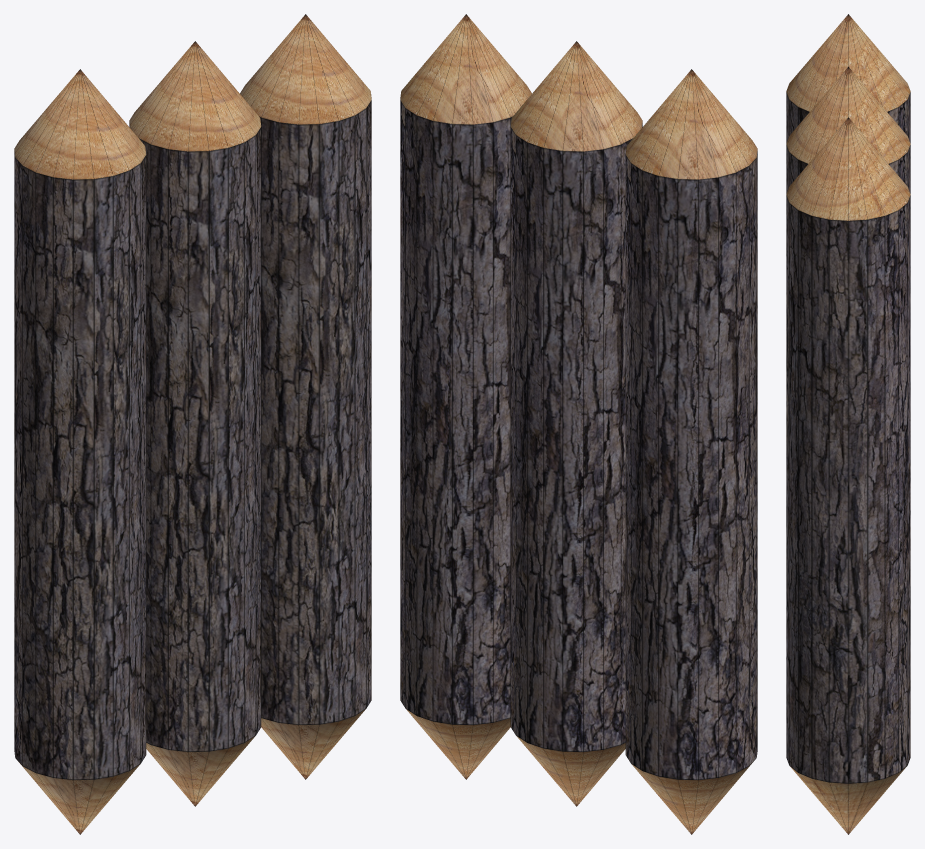
The model's file is Gate-Side.fbx.
3 views of the same model, side by side, from view 1: azimuth 30°, elevation 25°; view 2: azimuth 150°, elevation 25°; view 3: azimuth 270°, elevation 25° (orthographic). The views are drawn at different scales.
Parts seen in each view (by area): view 1: polySurface6; view 2: polySurface6; view 3: polySurface6.
Part boxes in pixels (<box>): polySurface6: <box>14,14,371,834</box>; polySurface6: <box>400,14,757,834</box>; polySurface6: <box>786,14,910,834</box>.
Bounding box in the file's own units: 3.51 × 7.53 × 1.18.
